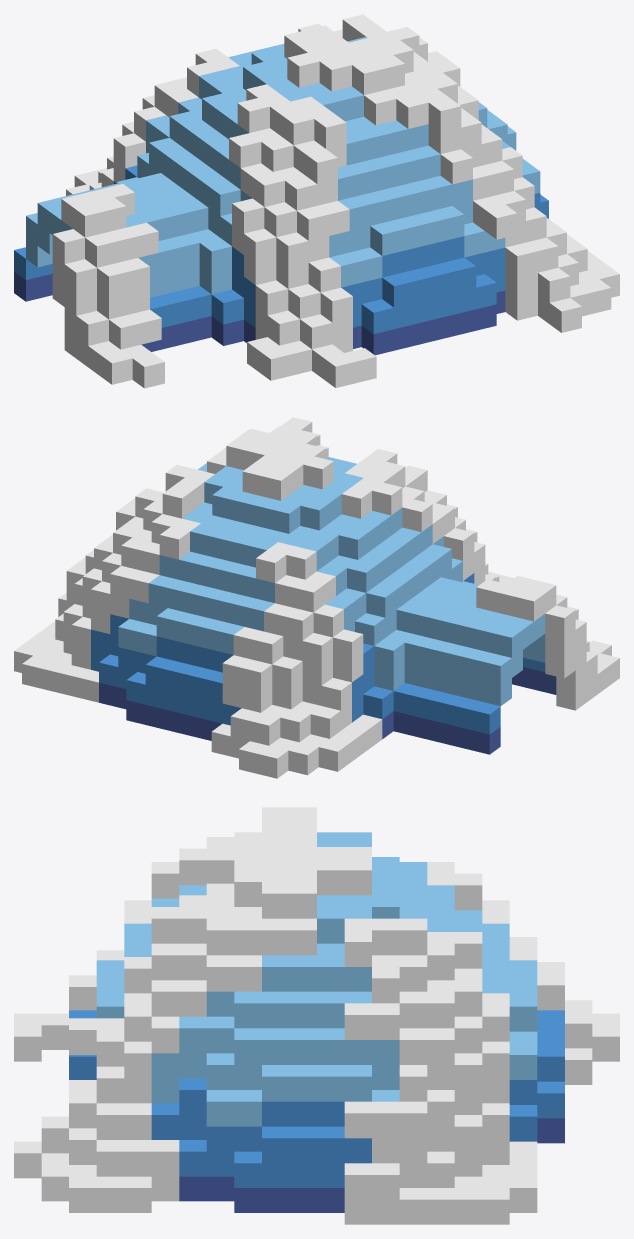
Rendered from Smol-Igloo.obj.
3 renders of one model, top to bottom at view 1: azimuth 30°, elevation 25°; view 2: azimuth 150°, elevation 25°; view 3: azimuth 270°, elevation 25°, orthographic. The views are drawn at different scales.
Bounding box in the file's own units: 2.4 × 1 × 2.2.
Materials: 1 (1 with a texture image).
